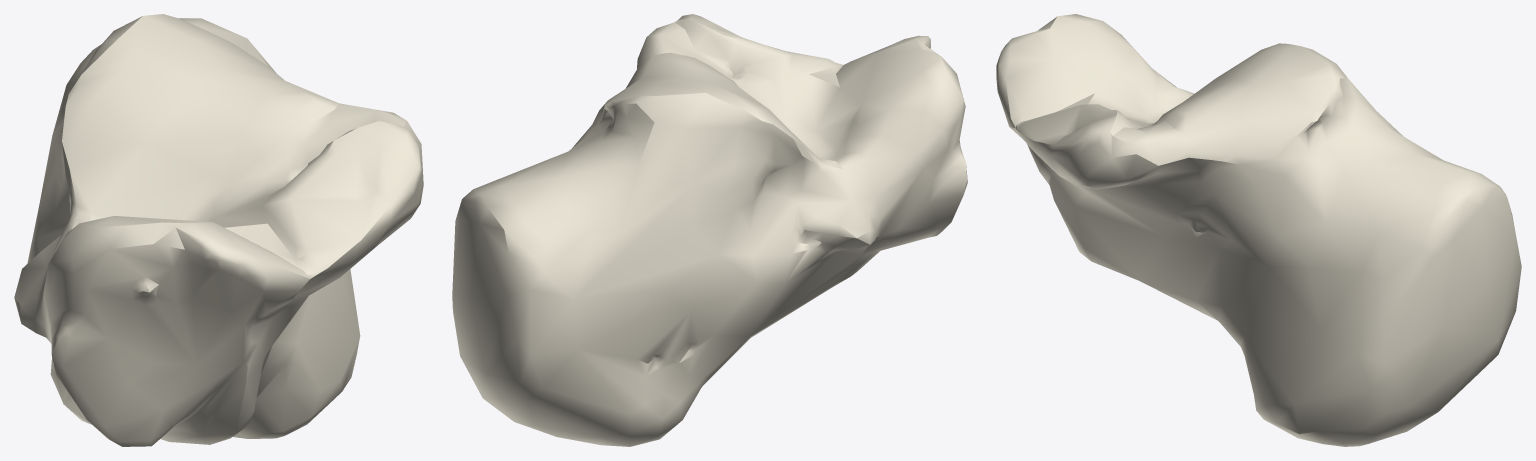
File: fma24497_fj3360.glb
3 views of the same model, side by side, from view 1: azimuth 30°, elevation 25°; view 2: azimuth 150°, elevation 25°; view 3: azimuth 270°, elevation 25° (orthographic). The views are drawn at different scales.
Visible parts, largest first — view 1: FMA24497_FJ3360; view 2: FMA24497_FJ3360; view 3: FMA24497_FJ3360.
Boxes of the visible parts, box(x1,y1,x2,y2) form: FMA24497_FJ3360: box(14, 14, 423, 446); FMA24497_FJ3360: box(452, 14, 967, 446); FMA24497_FJ3360: box(996, 14, 1521, 446).
Bounding box in the file's own units: 0.0559 × 0.0493 × 0.0701.
